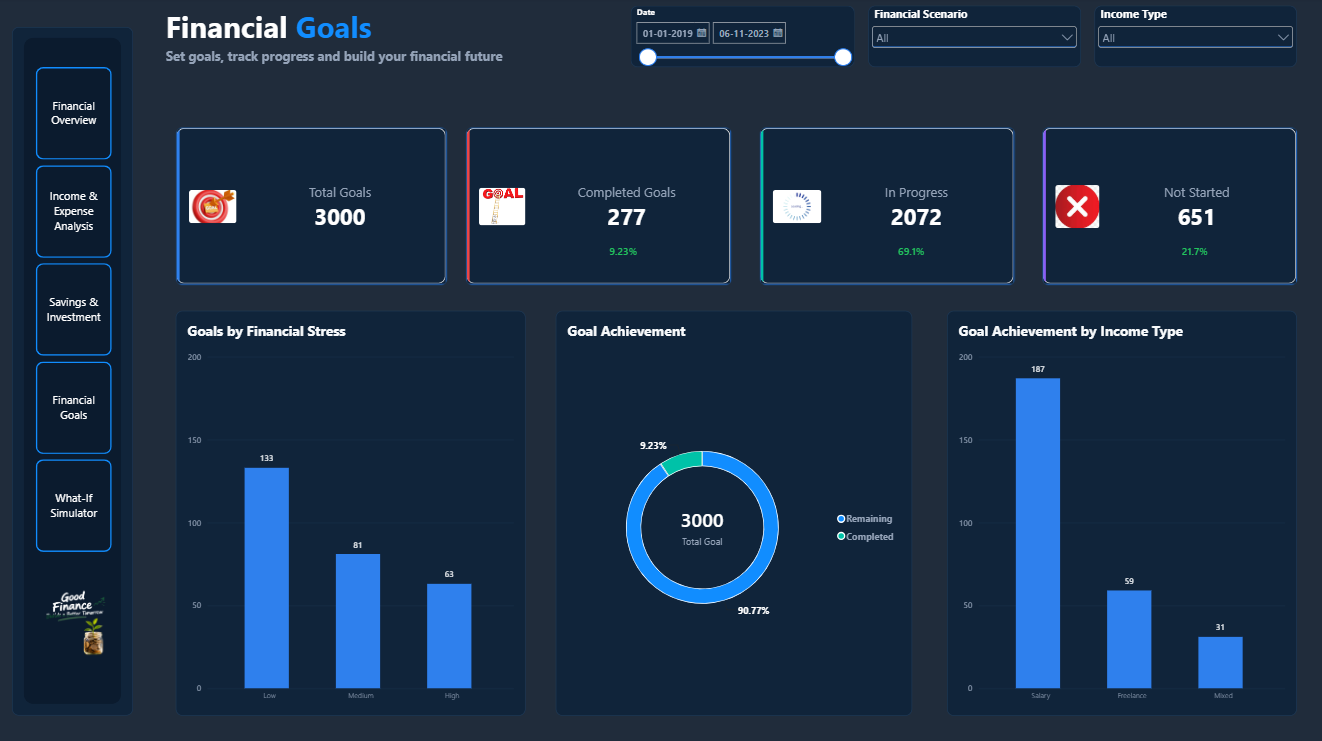

Layout of this report page (visuals, bound fields, positions):
{"tool":"powerbi","page":{"name":"Financial Goals","canvas":[1920,1080],"ordinal":3},"visuals":[{"type":"textbox","box":[244.5,13,558.3,60.6],"z":0},{"type":"textbox","box":[244.3,72.4,523,29],"z":1000},{"type":"cardVisual","fields":{"Data":["_Measure.Total Goal Records"]},"box":[258.8,188.2,393.9,229.4],"z":2000},{"type":"cardVisual","fields":{"Data":["_Measure.Completed Goals"]},"box":[678.1,188.3,385.2,229.4],"z":3000},{"type":"cardVisual","fields":{"Data":["_Measure.In Progress Goals"]},"box":[1103,188.3,370.1,229.4],"z":4000},{"type":"cardVisual","fields":{"Data":["_Measure.Not Started Goals"]},"box":[1512.7,188.3,370.1,229.4],"z":5000},{"type":"slicer","fields":{"Values":["DateTable.Date"]},"box":[917.5,12.7,323.9,88.7],"z":6000},{"type":"slicer","fields":{"Values":["financial_data.financial_scenario"]},"box":[1261.3,12.7,307.6,88.7],"z":7000},{"type":"slicer","fields":{"Values":["financial_data.income_type"]},"box":[1588.9,12.7,293.2,88.7],"z":8000},{"type":"clusteredColumnChart","title":"Goals by Financial Stress","fields":{"Y":["_Measure.Completed Goals"],"Category":["financial_data.financial_stress_level"]},"box":[258.8,454.2,506.7,586.3],"z":9000},{"type":"cardVisual","fields":{"Data":["_Measure.In Progress Goals %"]},"box":[1287.7,354.9,73.6,26],"z":10000},{"type":"cardVisual","fields":{"Data":["_Measure.Not Started Goals %"]},"box":[1698.9,354.9,73.6,26],"z":11000},{"type":"cardVisual","fields":{"Data":["_Measure.Completed Goals %"]},"box":[870,354.9,73.6,26],"z":12000},{"type":"donutChart","title":"Goal Achievement","fields":{"Y":["_Measure.Goal Achievement Count"],"Category":["Goal Achievement.Status"]},"box":[808.9,454.2,515.8,586.3],"z":13000},{"type":"shape","title":"Financial S","box":[21.7,43.4,175.5,997.1],"z":14000},{"type":"pageNavigator","box":[56.3,101.7,110.4,703.3],"z":15000},{"type":"clusteredColumnChart","title":"Goal Achievement by Income Type","fields":{"Y":["_Measure.Completed Goals"],"Category":["financial_data.income_type"]},"box":[1375.3,454.2,506.7,586.3],"z":16000},{"type":"image","box":[56.3,831,110.4,153.7],"z":16001}]}

Visuals, with their boxes on the page's 1920x1080 design canvas (x1, y1, x2, y2). These are canvas units, not pixel positions in the 1322x741 screenshot, which may show the page scaled, cropped or inside an application window:
textbox: l=244, t=13, r=803, b=74
textbox: l=244, t=72, r=767, b=101
cardVisual - _Measure.Total Goal Records: l=259, t=188, r=653, b=418
cardVisual - _Measure.Completed Goals: l=678, t=188, r=1063, b=418
cardVisual - _Measure.In Progress Goals: l=1103, t=188, r=1473, b=418
cardVisual - _Measure.Not Started Goals: l=1513, t=188, r=1883, b=418
slicer - DateTable.Date: l=918, t=13, r=1241, b=101
slicer - financial_data.financial_scenario: l=1261, t=13, r=1569, b=101
slicer - financial_data.income_type: l=1589, t=13, r=1882, b=101
"Goals by Financial Stress" clusteredColumnChart: l=259, t=454, r=766, b=1040
cardVisual - _Measure.In Progress Goals %: l=1288, t=355, r=1361, b=381
cardVisual - _Measure.Not Started Goals %: l=1699, t=355, r=1772, b=381
cardVisual - _Measure.Completed Goals %: l=870, t=355, r=944, b=381
"Goal Achievement" donutChart: l=809, t=454, r=1325, b=1040
"Financial S" shape: l=22, t=43, r=197, b=1040
pageNavigator: l=56, t=102, r=167, b=805
"Goal Achievement by Income Type" clusteredColumnChart: l=1375, t=454, r=1882, b=1040
image: l=56, t=831, r=167, b=985
